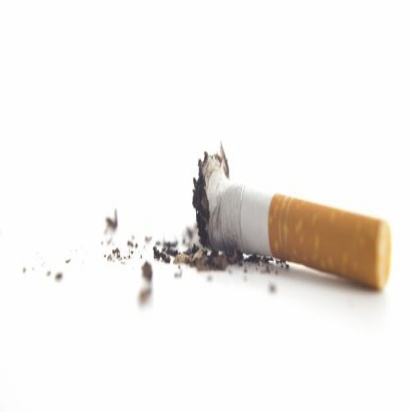cigarette: (179, 140, 398, 296)
